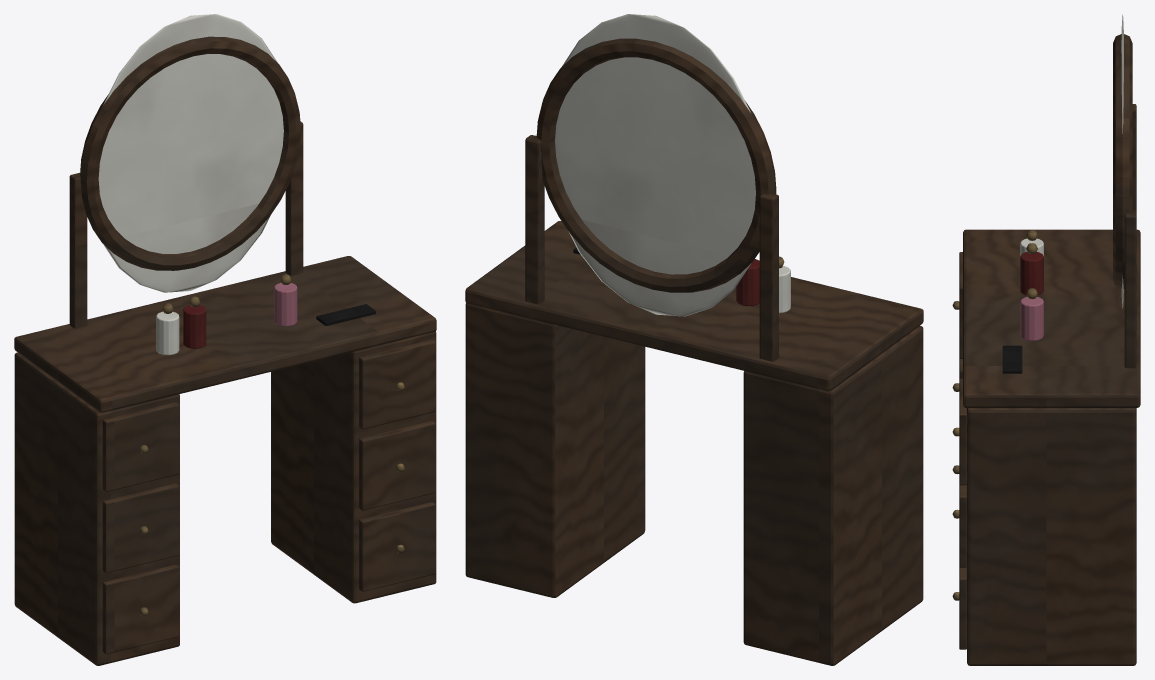
File: B05_dressing_table_mirror.glb
3 renders of one model, left to right at view 1: azimuth 30°, elevation 25°; view 2: azimuth 150°, elevation 25°; view 3: azimuth 270°, elevation 25°, orthographic. The views are drawn at different scales.
Parts seen in each view (by area): view 1: B05_dressing_table_mirror; view 2: B05_dressing_table_mirror; view 3: B05_dressing_table_mirror.
Part boxes in pixels (x1=…): B05_dressing_table_mirror: x1=14, y1=14, x2=436, y2=665; B05_dressing_table_mirror: x1=465, y1=14, x2=923, y2=665; B05_dressing_table_mirror: x1=952, y1=14, x2=1140, y2=665.
Bounding box in the file's own units: 0.9006 × 1.4 × 0.4254.
Materials: 6 (6 with a texture image).
